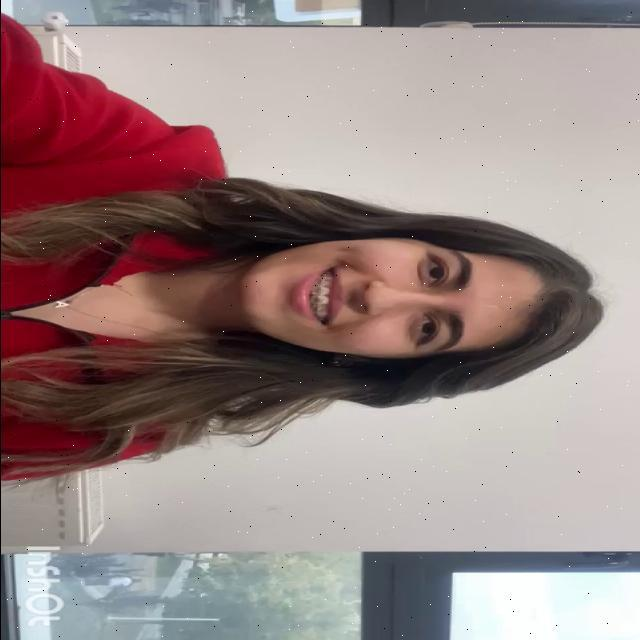happy: (234, 238, 548, 359)
